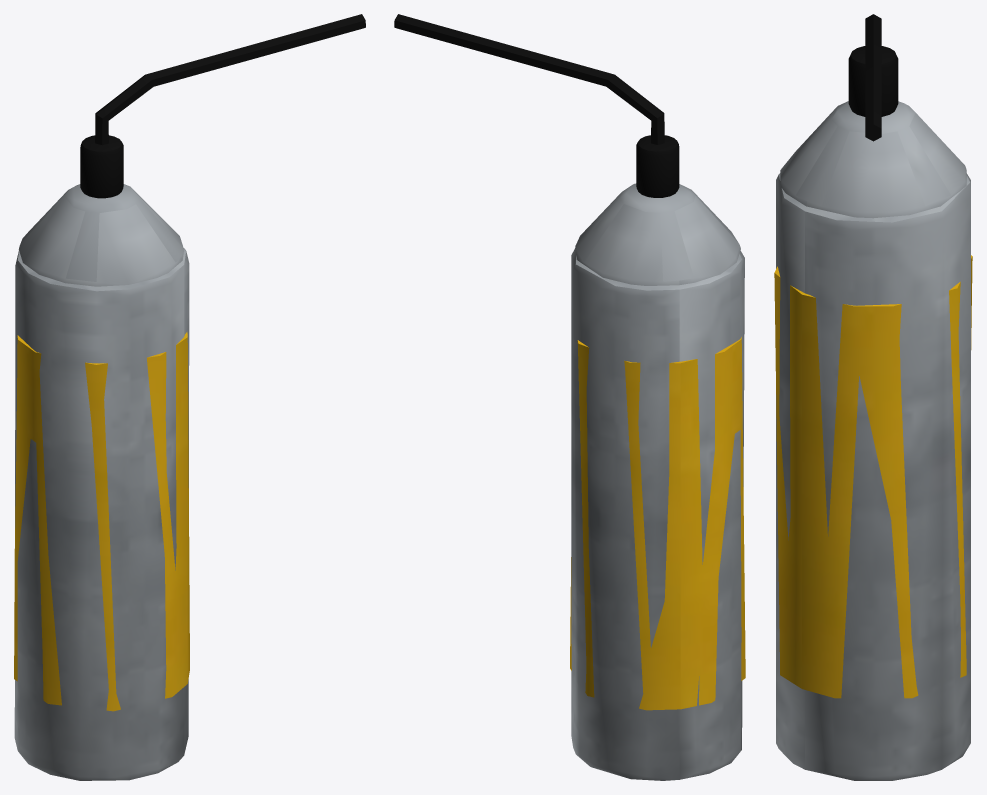
The model's file is ALV-FIX-003_lod1.glb.
3 views of the same model, side by side, from view 1: azimuth 30°, elevation 25°; view 2: azimuth 150°, elevation 25°; view 3: azimuth 270°, elevation 25° (orthographic). The views are drawn at different scales.
Parts seen in each view (by area): view 1: ALV-FIX-003_lata, ALV-FIX-003_rotulo, ALV-FIX-003_ombro, ALV-FIX-003_tubo, ALV-FIX-003_valvula; view 2: ALV-FIX-003_lata, ALV-FIX-003_rotulo, ALV-FIX-003_ombro, ALV-FIX-003_tubo, ALV-FIX-003_valvula; view 3: ALV-FIX-003_lata, ALV-FIX-003_rotulo, ALV-FIX-003_ombro, ALV-FIX-003_valvula, ALV-FIX-003_tubo.
Boxes of the visible parts, x1,y1,x2,y2 form: ALV-FIX-003_lata: (14, 248, 189, 780); ALV-FIX-003_rotulo: (14, 332, 189, 711); ALV-FIX-003_ombro: (18, 184, 183, 286); ALV-FIX-003_tubo: (95, 14, 365, 145); ALV-FIX-003_valvula: (80, 135, 123, 198); ALV-FIX-003_lata: (571, 248, 744, 780); ALV-FIX-003_rotulo: (570, 337, 745, 710); ALV-FIX-003_ombro: (575, 183, 740, 285); ALV-FIX-003_tubo: (394, 14, 664, 144); ALV-FIX-003_valvula: (636, 135, 679, 197); ALV-FIX-003_lata: (776, 173, 970, 780); ALV-FIX-003_rotulo: (774, 255, 972, 698); ALV-FIX-003_ombro: (780, 101, 966, 218); ALV-FIX-003_valvula: (848, 46, 898, 116); ALV-FIX-003_tubo: (865, 14, 881, 141).
Size of the model in its own units: 0.142 by 0.2701 by 0.0637.
Materials: 3 (3 with a texture image).
